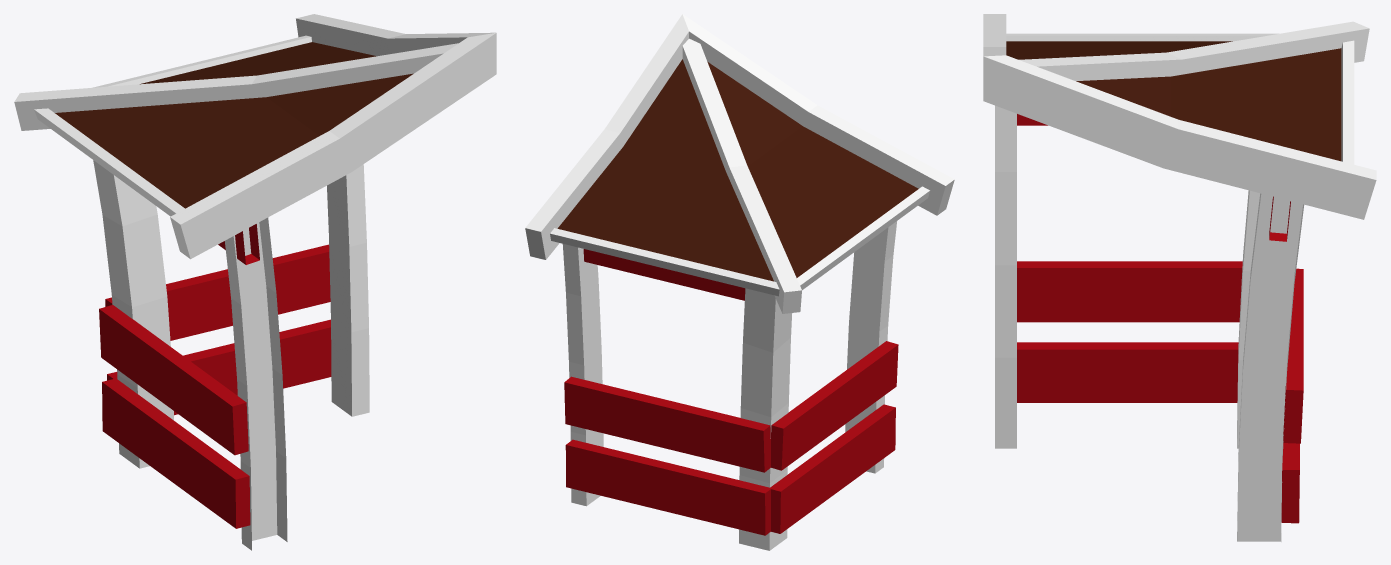
File: Animal_Shed_Corner_IN (2).fbx
3 views of the same model, side by side, from view 1: azimuth 30°, elevation 25°; view 2: azimuth 150°, elevation 25°; view 3: azimuth 270°, elevation 25° (orthographic). The views are drawn at different scales.
Parts seen in each view (by area): view 1: Corner_In; view 2: Corner_In; view 3: Corner_In.
Boxes of the visible parts, x1,y1,x2,y2 form: Corner_In: (14,14,496,550); Corner_In: (525,14,954,550); Corner_In: (983,14,1376,541).
Size of the model in its own units: 134 by 188 by 134.
